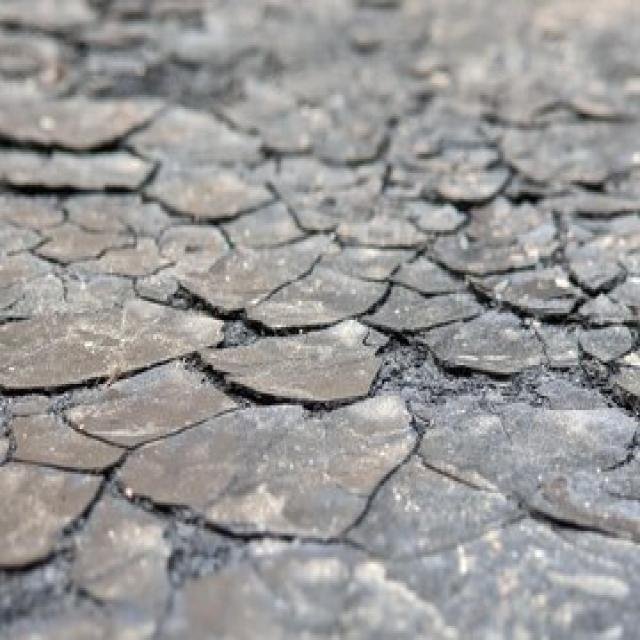Drain Hole: (153, 112, 578, 563)
